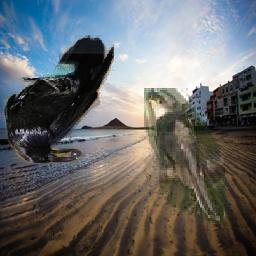Crow: (4, 35, 115, 163)
Cuckoo: (145, 89, 226, 224)
